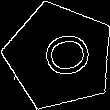O_W: (28, 29, 90, 84)
